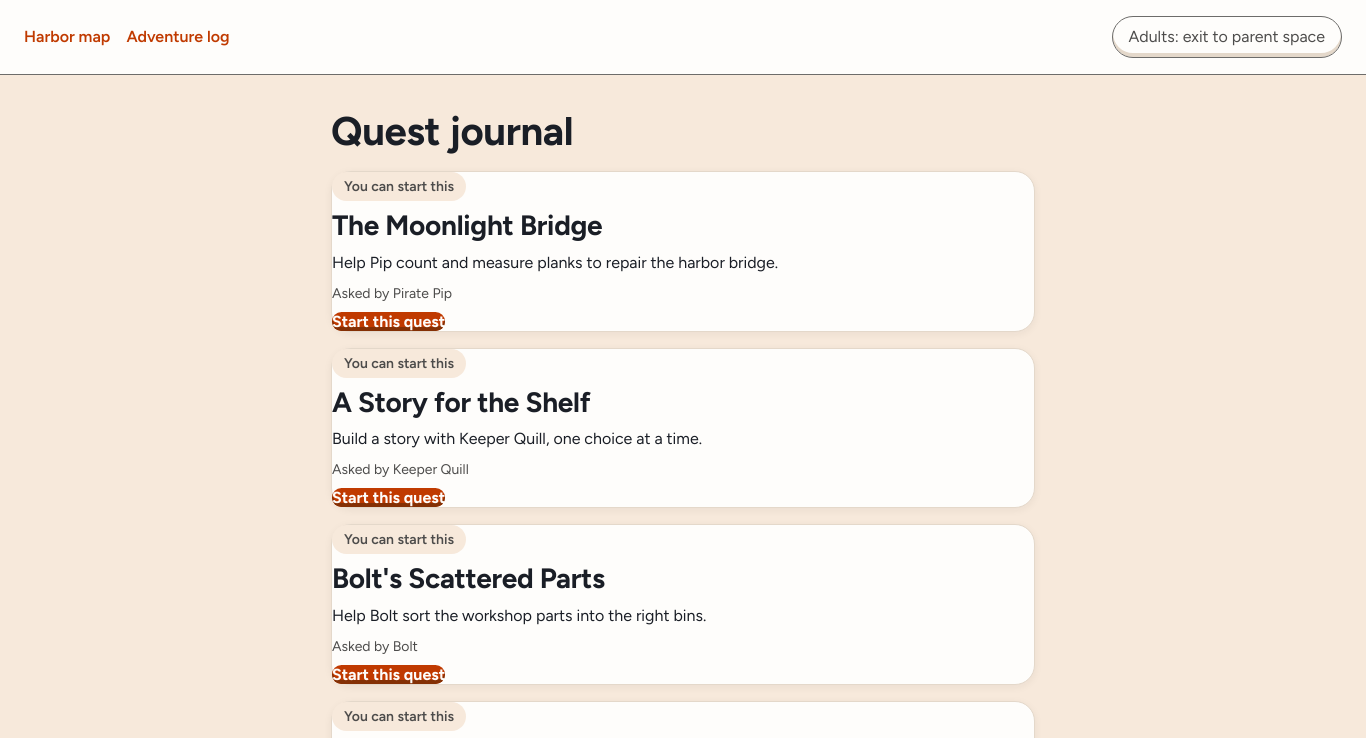
Test: starting an available quest from the journal › says so calmly when the quest cannot be started
The width and height of the screenshot is (1366, 738).
Click the button with aria-label "Start this quest: The Moonlight Bridge".
click(389, 321)  # box [332,312,445,331]
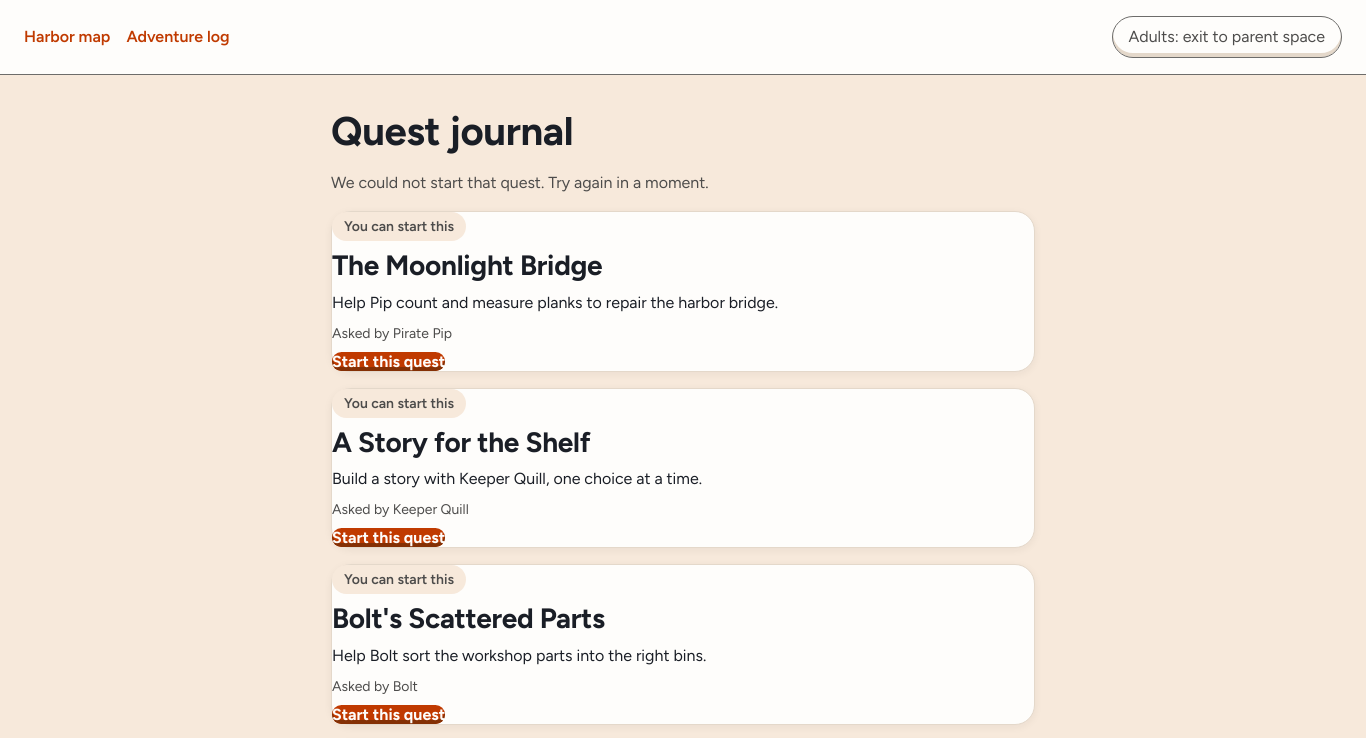
Now the message shows "We could not start that quest", box [331,173,709,192]
